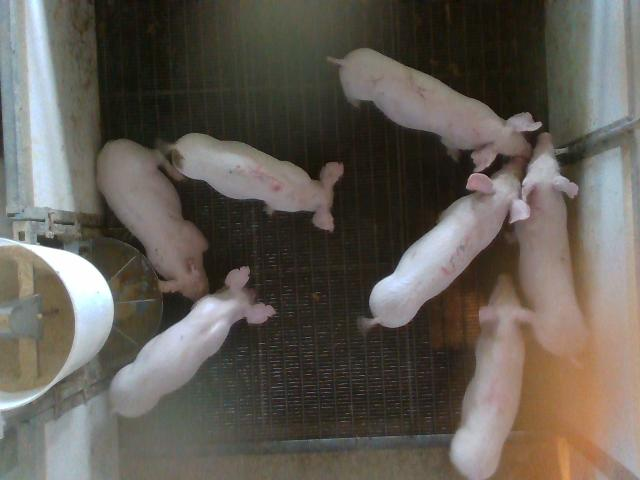pig-3: (362, 160, 528, 327)
pig-4: (450, 274, 534, 479)
pig-5: (168, 132, 344, 231)
